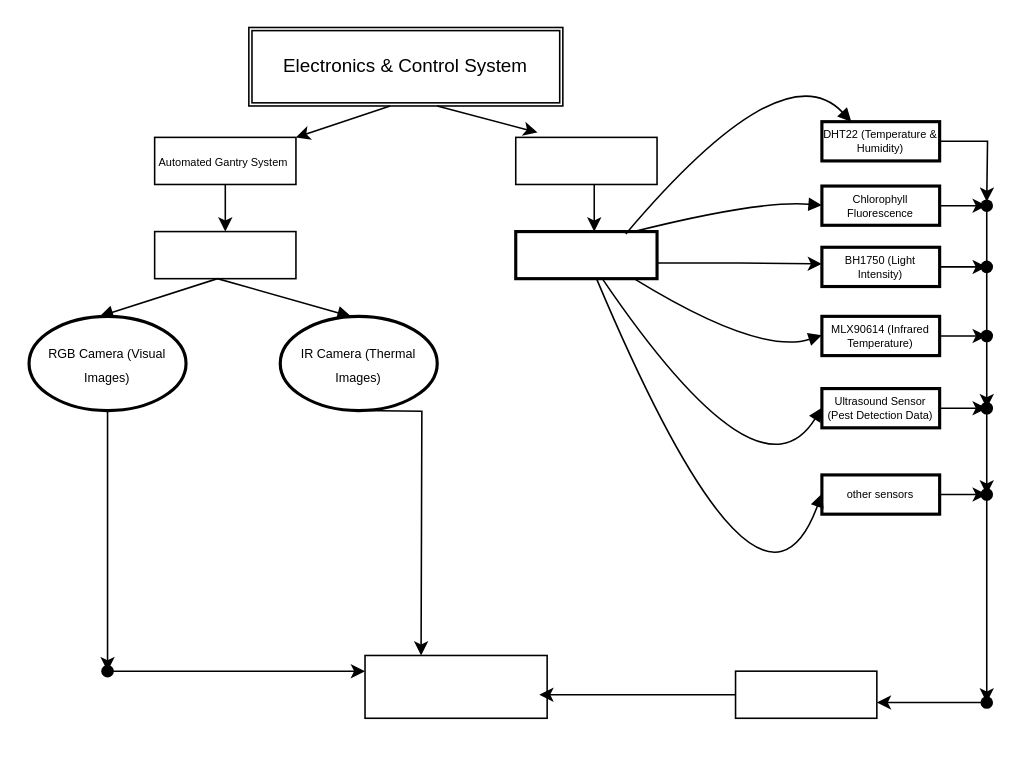
Some shapes in this 1030 by 766 pixel diagram are drawn without their labels. The box of each missing label's shape, as (x1, y1, x2, y2) in pixels:
Central Processing Hub (Data Collection & Logging): (363, 654, 547, 718)
Imaging Systems: (153, 230, 296, 279)
mock and read sensors: (734, 670, 877, 718)
Sensor Array: (514, 136, 657, 184)
sensors: (513, 229, 658, 279)
